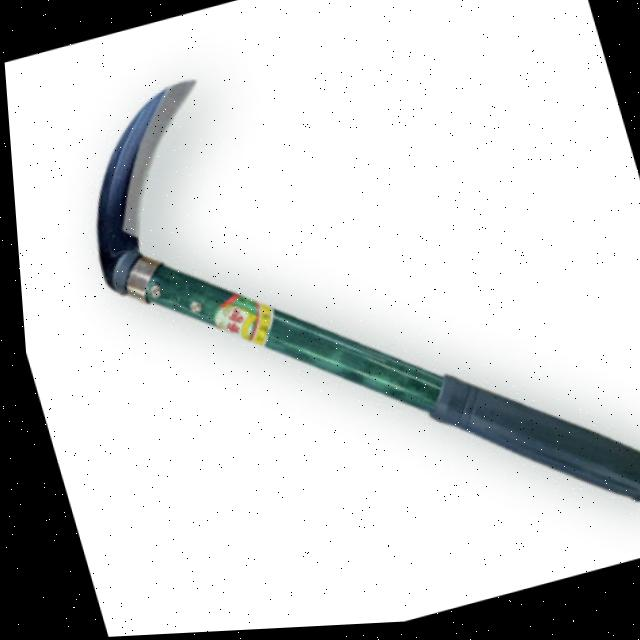sickle: (19, 0, 640, 627)
